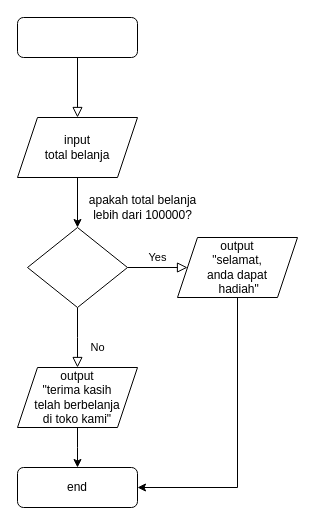
Some shapes in this 315 by 525 pixel diagram are drawn without their labels. The centre of each missing label's shape, as x and y in pixels:
"start" belongs at [77,37].
"total belanja > 100000" belongs at [77,267].
